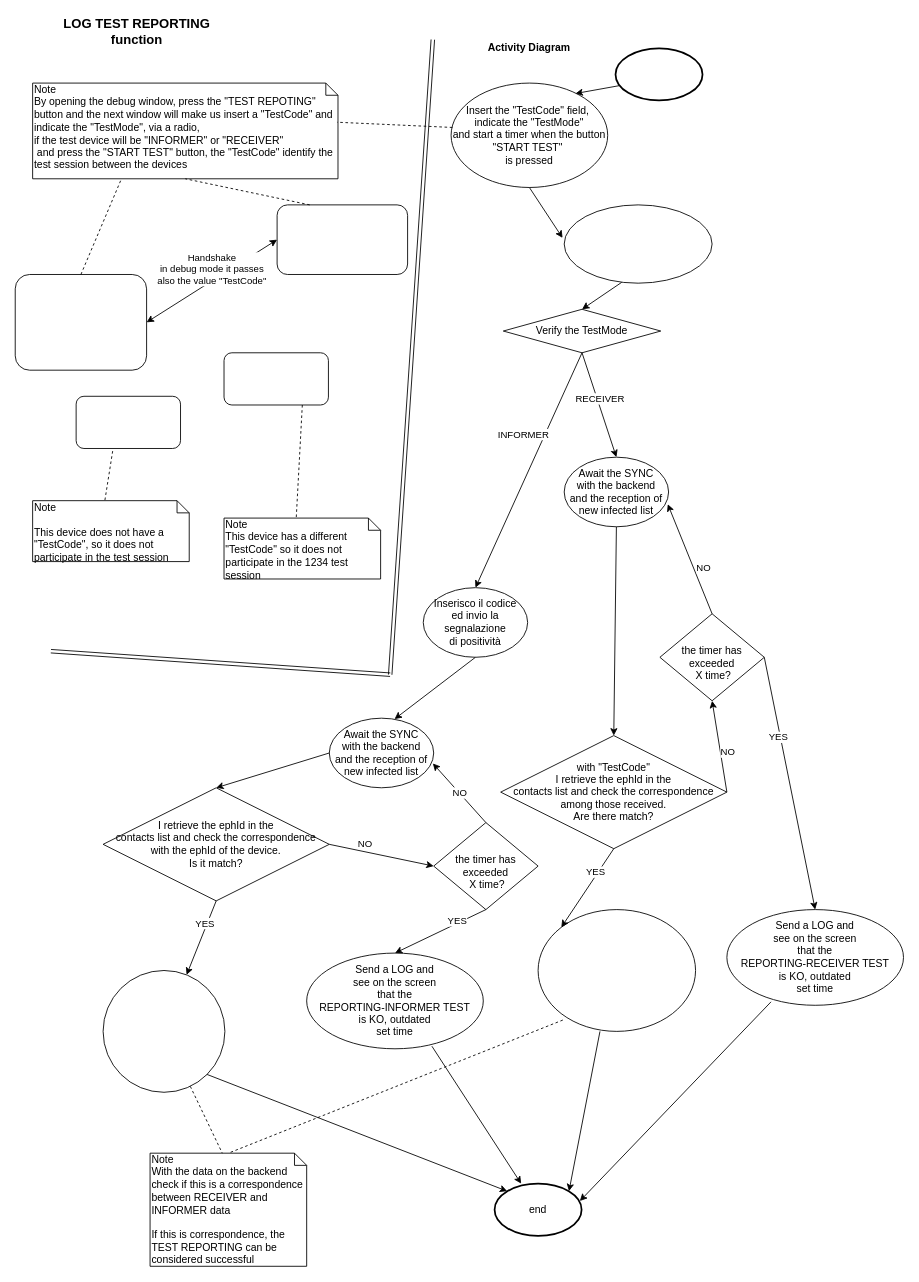
Image size: 919x1282. Some labels were removed from this diagram. The box of each missing label's shape, as (x1, y1, x2, y2) in pixels:
DEVICE #01 TestCode 1234 TestMode: RECEIVER: (14, 274, 147, 370)
DEVICE #02 TestCode 1234 TestMode: INFORMER: (276, 204, 408, 274)
DEVICE #02 TestCode 9999: (223, 352, 328, 405)
DEVICE #03: (75, 395, 181, 448)
Send a LOG and see on the screen that the REPORTING-INFORMER TEST succeeded: (102, 970, 225, 1092)
Send a LOG and see on the screen that the REPORTING-RECEIVER TEST succeeded: (537, 909, 696, 1031)
Send a LOG with the TestCode and TestMode data that I expect to contact: (563, 204, 712, 283)
start: (614, 47, 703, 101)
